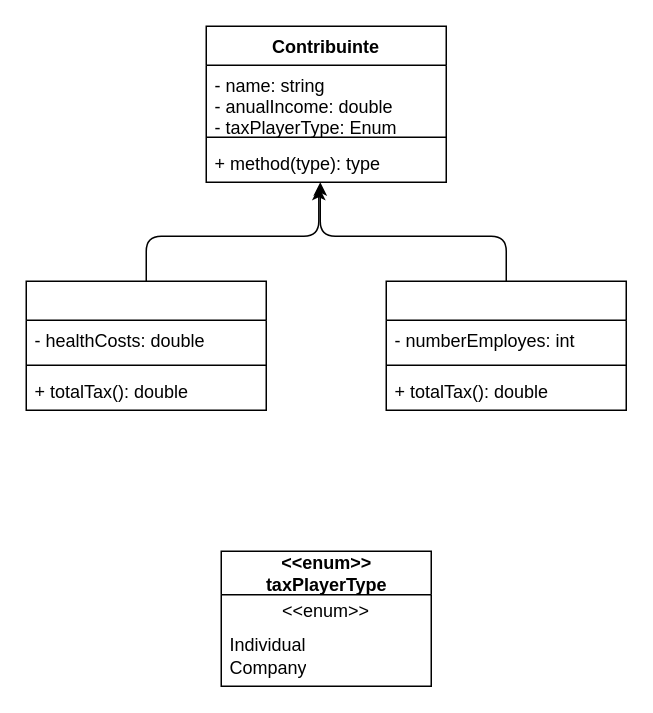
Some shapes in this 653 by 713 pixel diagram are drawn without their labels. Each missing label, with the box of its shape:
Company: (385, 280, 626, 410)
Individual: (25, 280, 266, 410)
